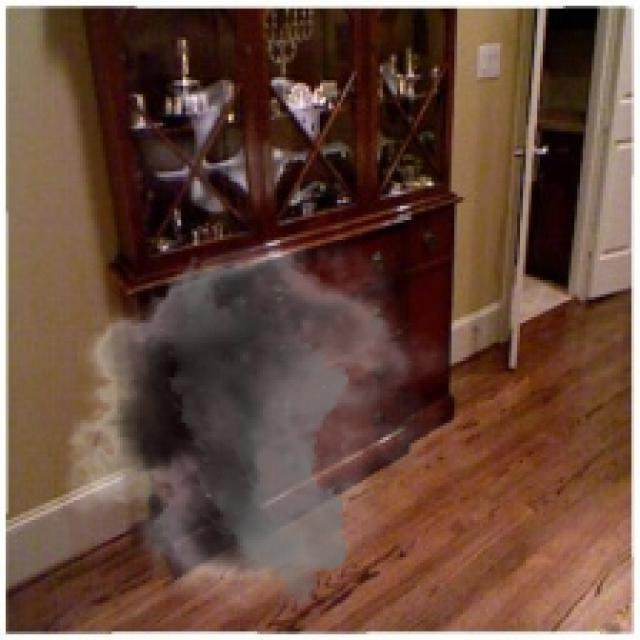Smoke: (46, 222, 457, 608)
